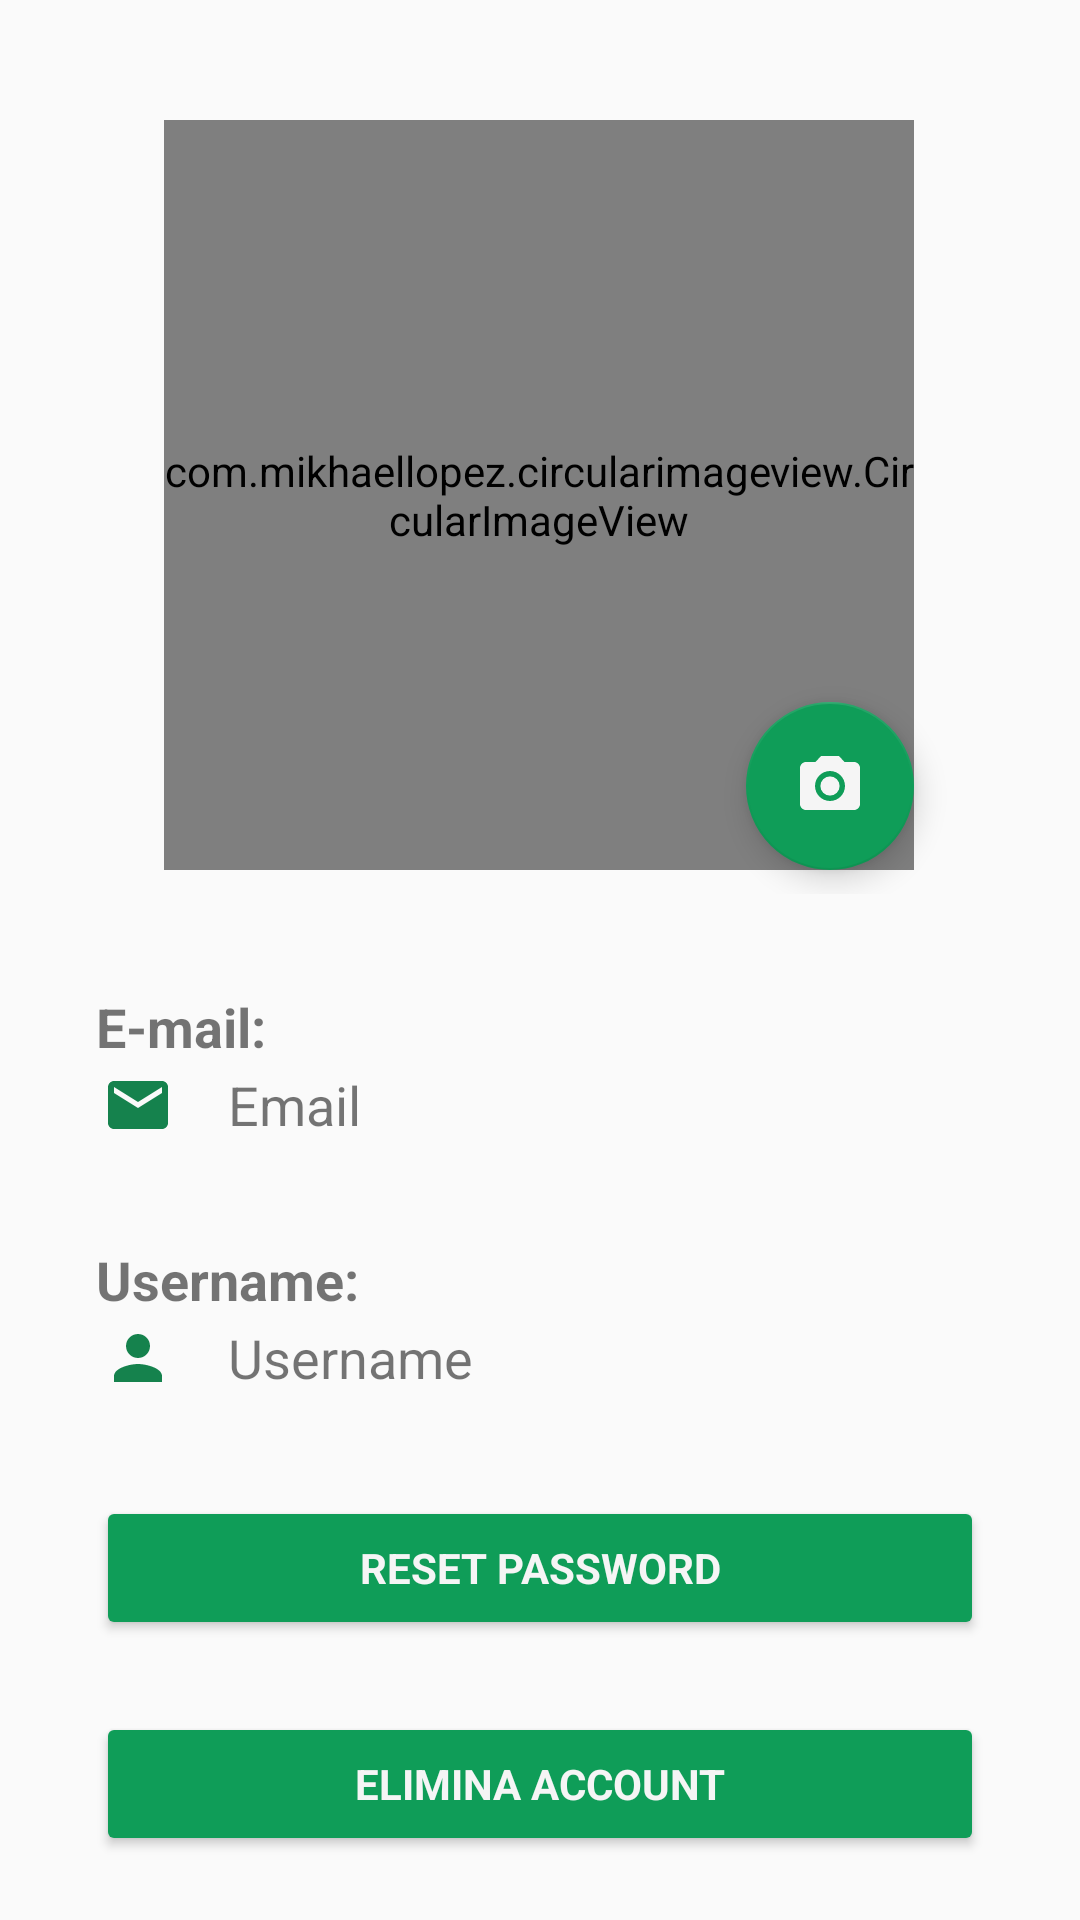

Icon click points for this 1080w x 1920h phone screenshot, format point (x, y):
person: point (138, 1358)
photo camera: point (830, 786)
